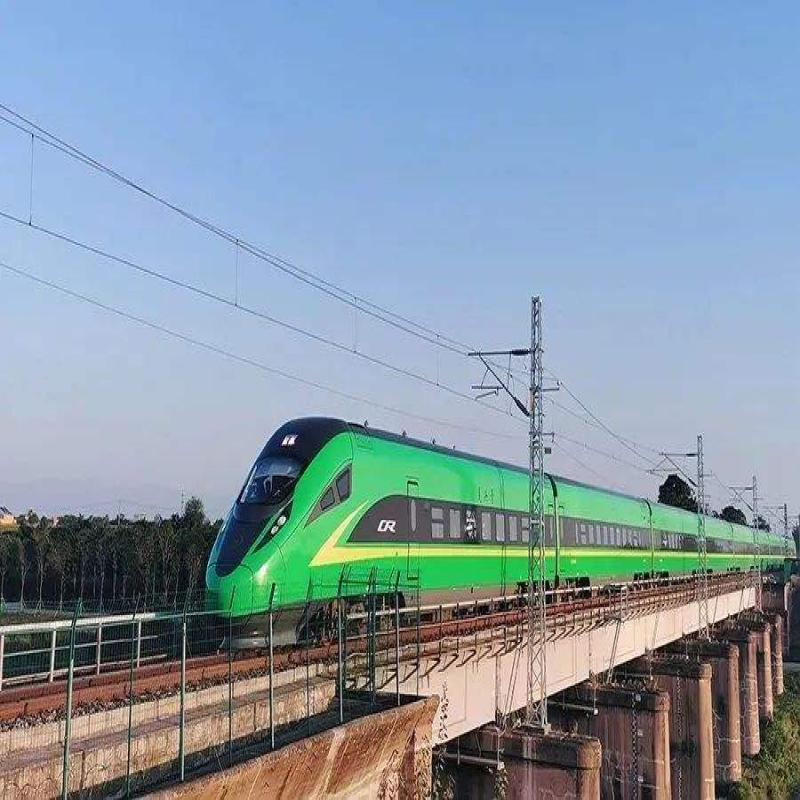train: (214, 411, 774, 646)
